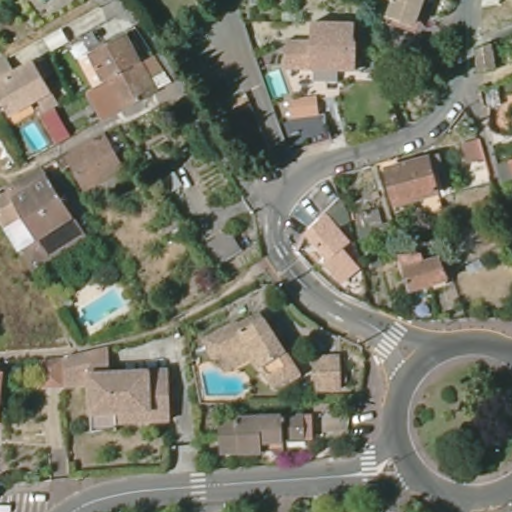pool: (76, 284, 129, 334), (193, 361, 250, 402), (16, 120, 56, 158), (260, 65, 295, 101)
